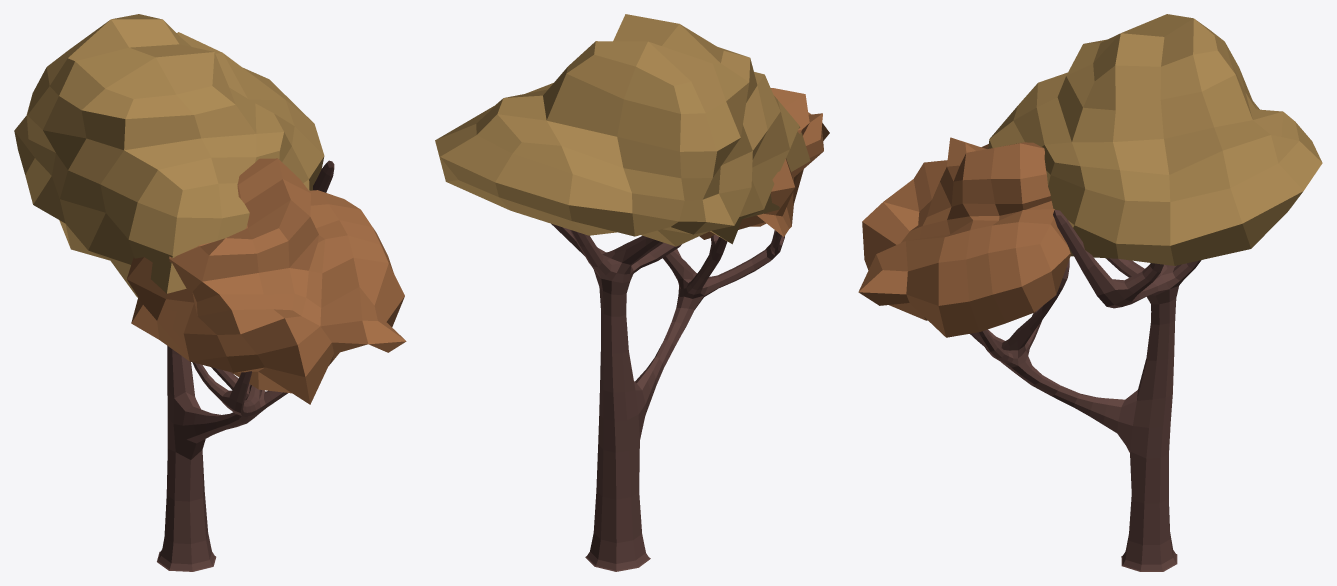
Rendered from autumn-2.glb.
3 views of the same model, side by side, from view 1: azimuth 30°, elevation 25°; view 2: azimuth 150°, elevation 25°; view 3: azimuth 270°, elevation 25° (orthographic). The views are drawn at different scales.
Parts seen in each view (by area): view 1: CommonTree_Autumn_2; view 2: CommonTree_Autumn_2; view 3: CommonTree_Autumn_2.
Boxes of the visible parts, <box> form: CommonTree_Autumn_2: <box>14,14,406,571</box>; CommonTree_Autumn_2: <box>435,14,829,571</box>; CommonTree_Autumn_2: <box>858,14,1322,571</box>.
Size of the model in its own units: 1.66 by 3.12 by 2.54.
